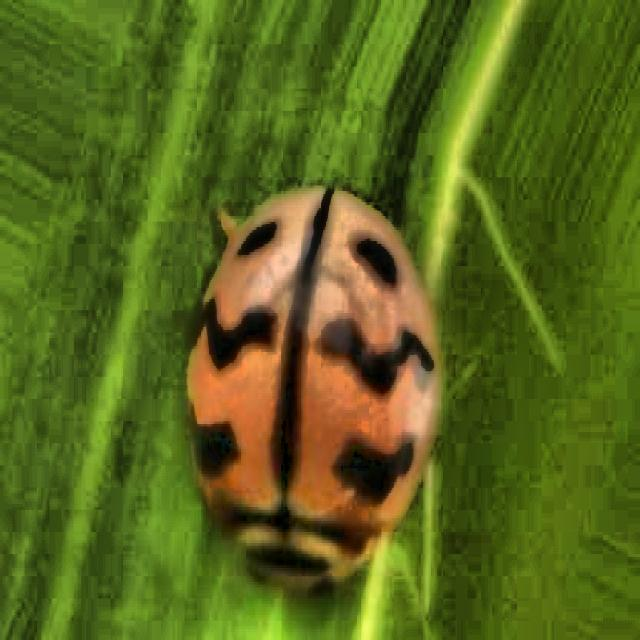Asian-Lady-beetle: (120, 133, 508, 640)
